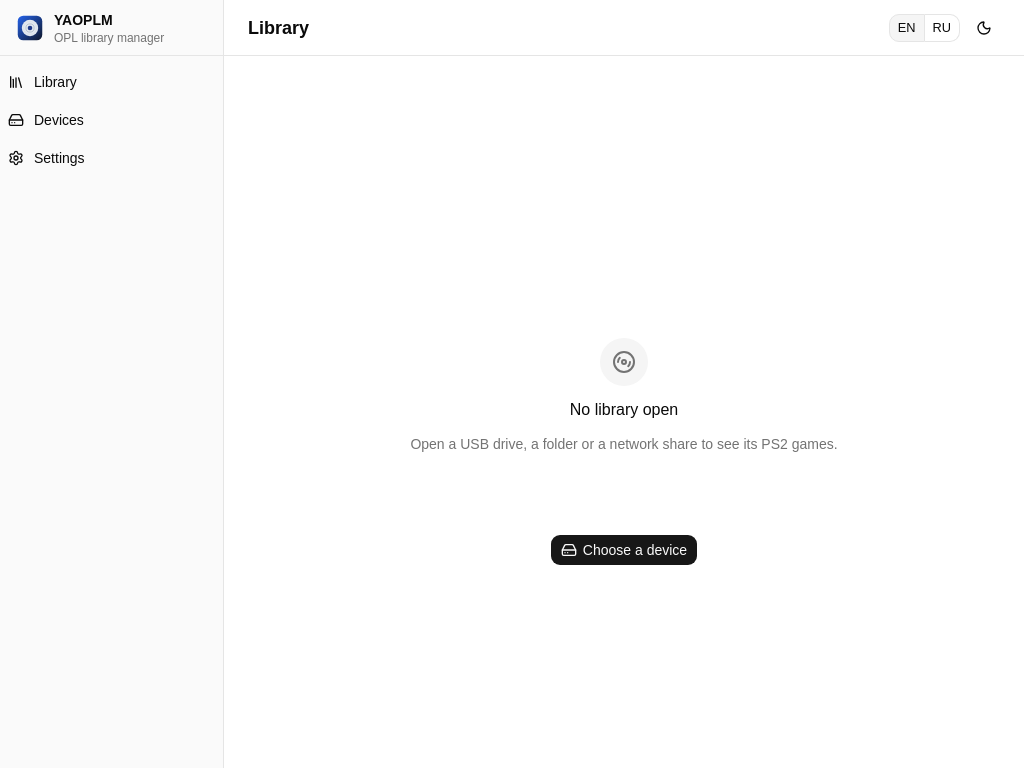
Scenario: App › switches language to Russian
The image size is (1024, 768).
Click the radio button with aria-label "Русский": click(942, 28) [924,14,960,42]
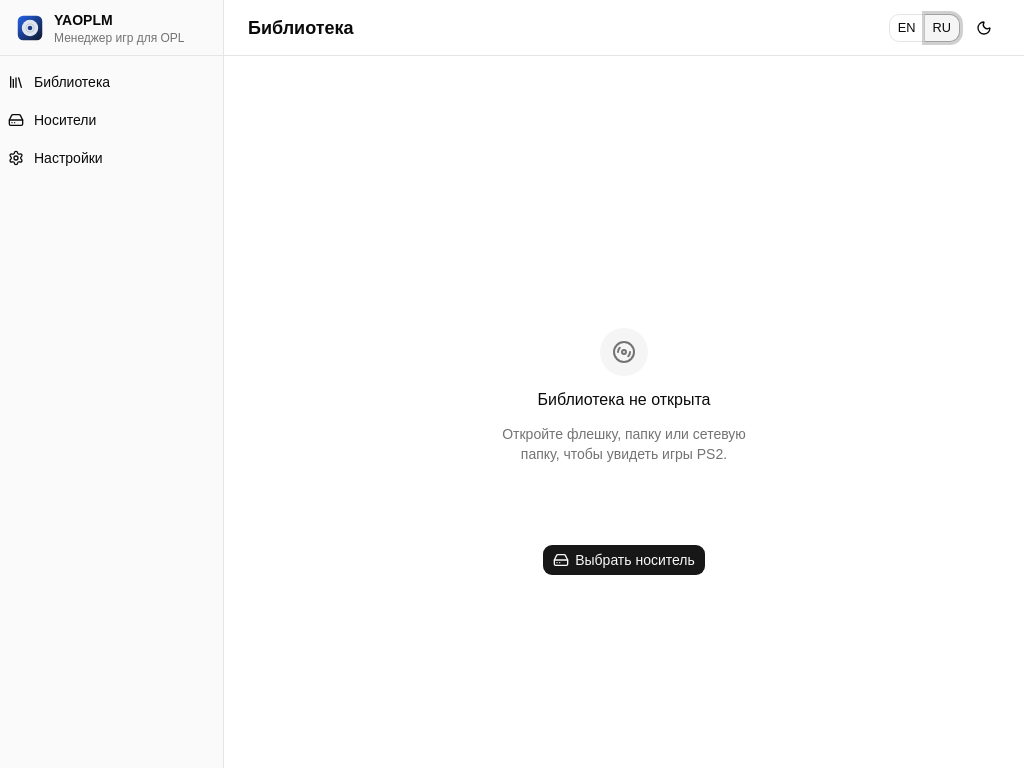
Now the heading "Библиотека" is shown, box [248,14,354,42]
